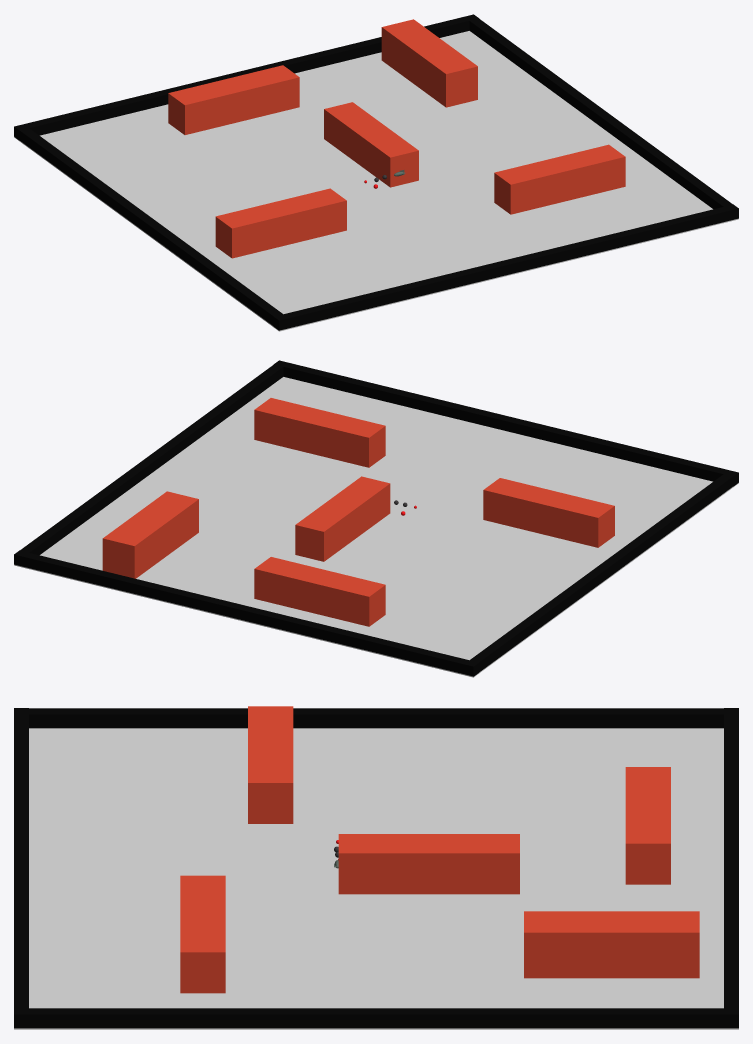
Rendered from godot files.glb.
3 renders of one model, top to bottom at view 1: azimuth 30°, elevation 25°; view 2: azimuth 150°, elevation 25°; view 3: azimuth 270°, elevation 25°, orthographic. The views are drawn at different scales.
Parts seen in each view (by area): view 1: floor, Cube.005, wall, wall3, wall4, wall2, Cube.001, Cube.002, Cube.004, Cube.007; view 2: floor, Cube.002, Cube.005, wall, wall4, wall3, wall2, Cube.001, Cube.004, Cube.007; view 3: floor, Cube.004, Cube.001, wall2, Cube.007, wall4, wall3, wall, Cube.005, Cube.002.
Boxes of the visible parts, box(x1,y1,x2,y2) form: floor: box(14, 31, 738, 331); Cube.005: box(273, 204, 738, 330); wall: box(168, 65, 299, 134); wall3: box(215, 188, 346, 258); wall4: box(494, 144, 625, 214); wall2: box(381, 19, 477, 107); Cube.001: box(19, 128, 282, 325); Cube.002: box(14, 14, 478, 140); Cube.004: box(469, 18, 732, 209); Cube.007: box(324, 102, 418, 187); floor: box(14, 377, 738, 677); Cube.002: box(14, 550, 479, 676); Cube.005: box(274, 360, 738, 486); wall: box(254, 557, 385, 626); wall4: box(254, 398, 385, 467); wall3: box(483, 478, 614, 547); wall2: box(102, 491, 198, 578); Cube.001: box(470, 474, 733, 671); Cube.004: box(20, 364, 283, 555); Cube.007: box(295, 476, 390, 561); floor: box(14, 728, 738, 1029); Cube.004: box(29, 1008, 723, 1028); Cube.001: box(29, 708, 723, 728); wall2: box(524, 911, 699, 978); Cube.007: box(338, 834, 519, 894); wall4: box(180, 875, 225, 993); wall3: box(248, 706, 293, 823); wall: box(625, 767, 670, 884); Cube.005: box(14, 708, 28, 1028); Cube.002: box(724, 708, 738, 1028).
Size of the model in its own units: 96.1 by 6.93 by 96.
